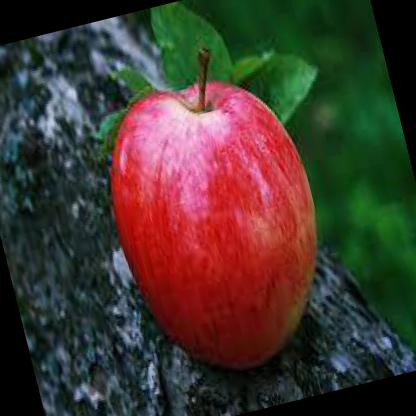apple: (79, 25, 352, 392)
